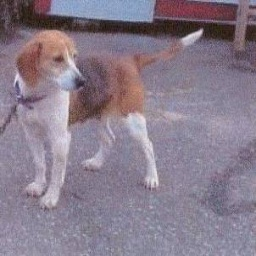dog: (12, 28, 167, 205)
